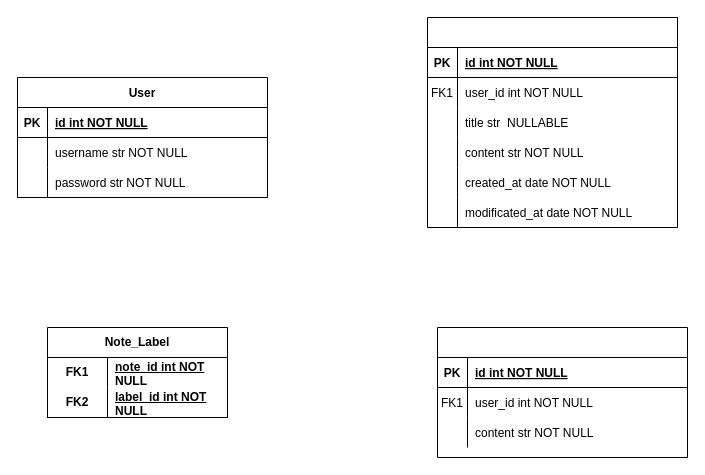
The diagram is 705 pixels wide and 475 high, and some of its shapes have lost their labels. The shapes that lost their labels are listed below. From the top down, each one's box as (x1, y1, x2, y2) in pixels, then its label:
(426, 16, 678, 228): Note
(436, 326, 688, 458): Label
